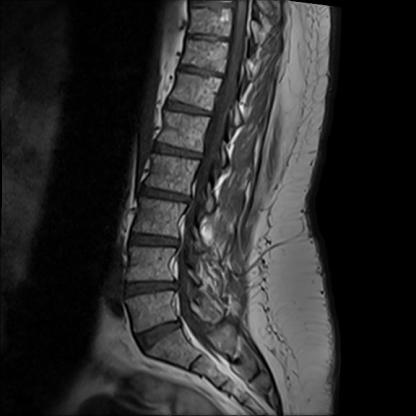Annular Disc Relaxationrotation: (126, 231, 181, 252), (151, 143, 205, 163)
Degenerative Disc Diseaserotation: (125, 278, 178, 299), (140, 186, 192, 205)
Disc Bulgerotation: (138, 322, 186, 346), (125, 278, 178, 299), (141, 186, 193, 205)
